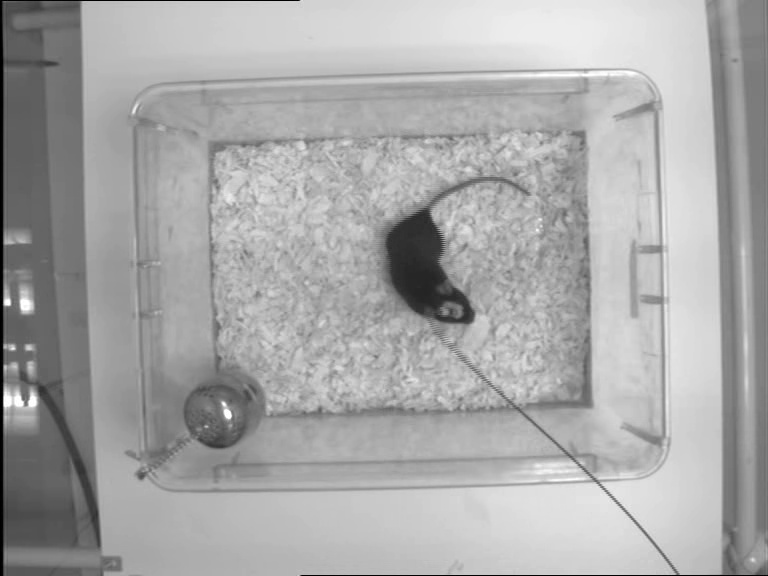mice: (388, 174, 531, 323)
